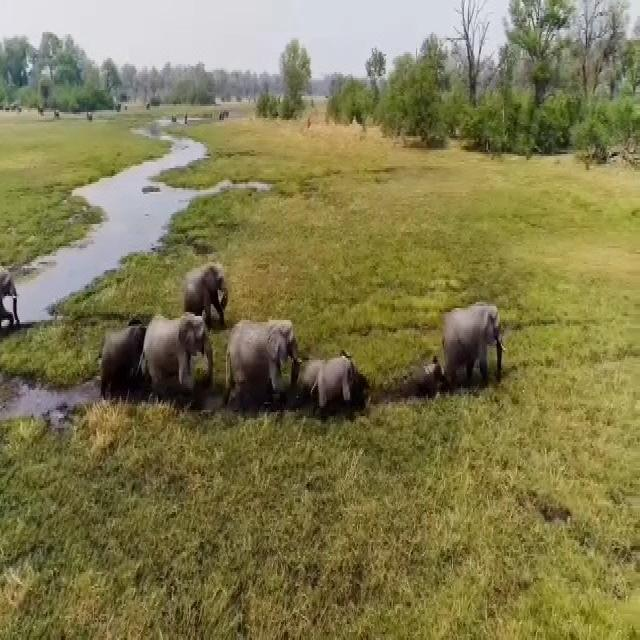Elephant: (435, 304, 504, 404), (228, 313, 301, 400), (143, 307, 204, 408), (305, 343, 365, 429), (100, 327, 152, 397), (189, 266, 235, 312)
